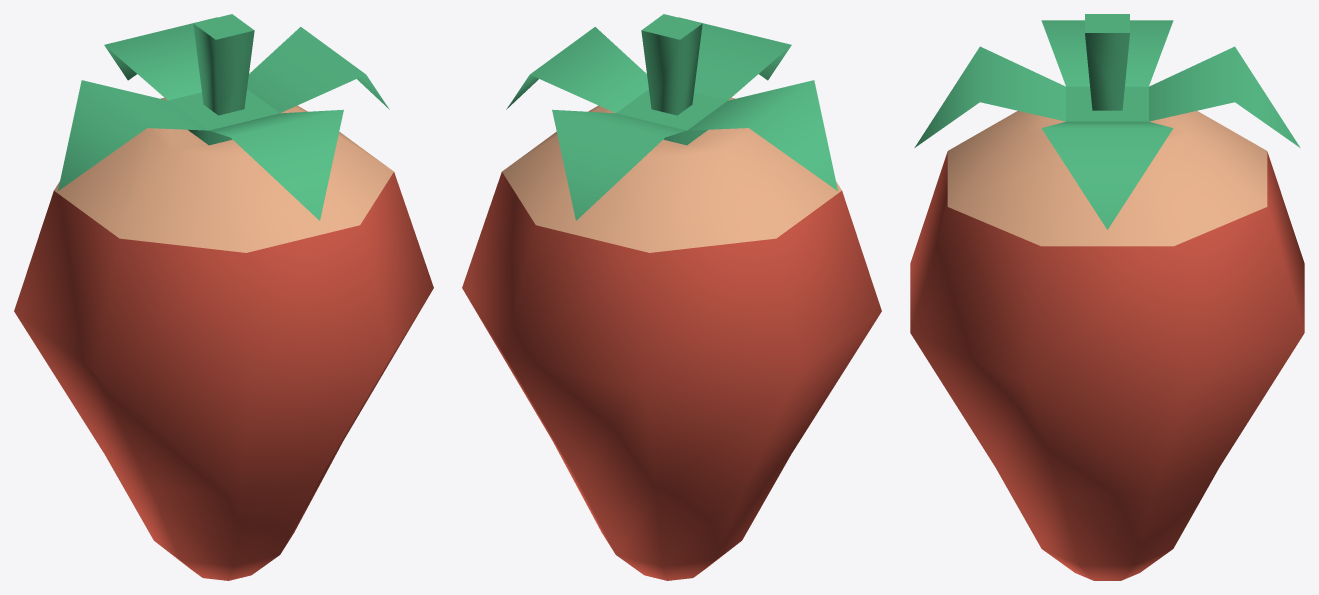
The model's file is morango.glb.
3 renders of one model, left to right at view 1: azimuth 30°, elevation 25°; view 2: azimuth 150°, elevation 25°; view 3: azimuth 270°, elevation 25°, orthographic.
Parts seen in each view (by area): view 1: strawberry; view 2: strawberry; view 3: strawberry.
Boxes of the visible parts, left/top/right/bottom form: strawberry: left=14, top=14, right=433, bottom=580; strawberry: left=462, top=14, right=881, bottom=580; strawberry: left=910, top=14, right=1304, bottom=580.
Bounding box in the file's own units: 0.1197 × 0.182 × 0.1197.
